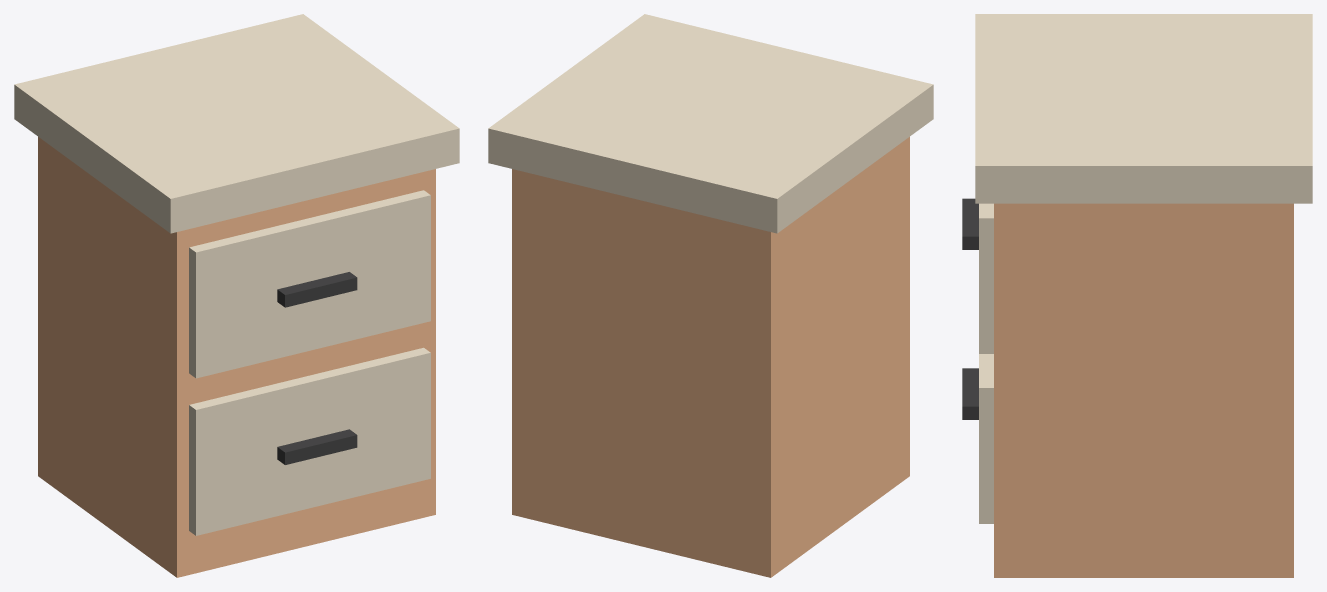
The picture shows the model from 3 angles, left to right: view 1: azimuth 30°, elevation 25°; view 2: azimuth 150°, elevation 25°; view 3: azimuth 270°, elevation 25°; orthographic projection. The views are drawn at different scales.
Visible parts, largest first — view 1: Body, Top, Drawer.001, Drawer, Grip, Grip.001; view 2: Body, Top; view 3: Body, Top, Drawer, Drawer.001, Grip, Grip.001.
Part boxes in pixels (left/top/right/bottom): Body: left=38, top=137, right=435, bottom=577; Top: left=14, top=14, right=459, bottom=233; Drawer.001: left=189, top=190, right=430, bottom=378; Drawer: left=189, top=347, right=430, bottom=535; Grip: left=277, top=429, right=357, bottom=464; Grip.001: left=277, top=272, right=357, bottom=307; Body: left=512, top=137, right=909, bottom=577; Top: left=488, top=14, right=933, bottom=233; Body: left=994, top=203, right=1293, bottom=577; Top: left=975, top=14, right=1312, bottom=203; Drawer: left=979, top=354, right=993, bottom=523; Drawer.001: left=979, top=203, right=993, bottom=353; Grip: left=962, top=368, right=978, bottom=419; Grip.001: left=962, top=198, right=978, bottom=249.
Size of the model in its own units: 48 by 61.75 by 46.75.
